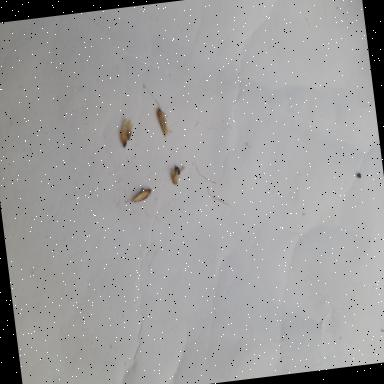pbw: (117, 116, 136, 148), (156, 106, 174, 138), (123, 186, 153, 204), (170, 166, 183, 186)
